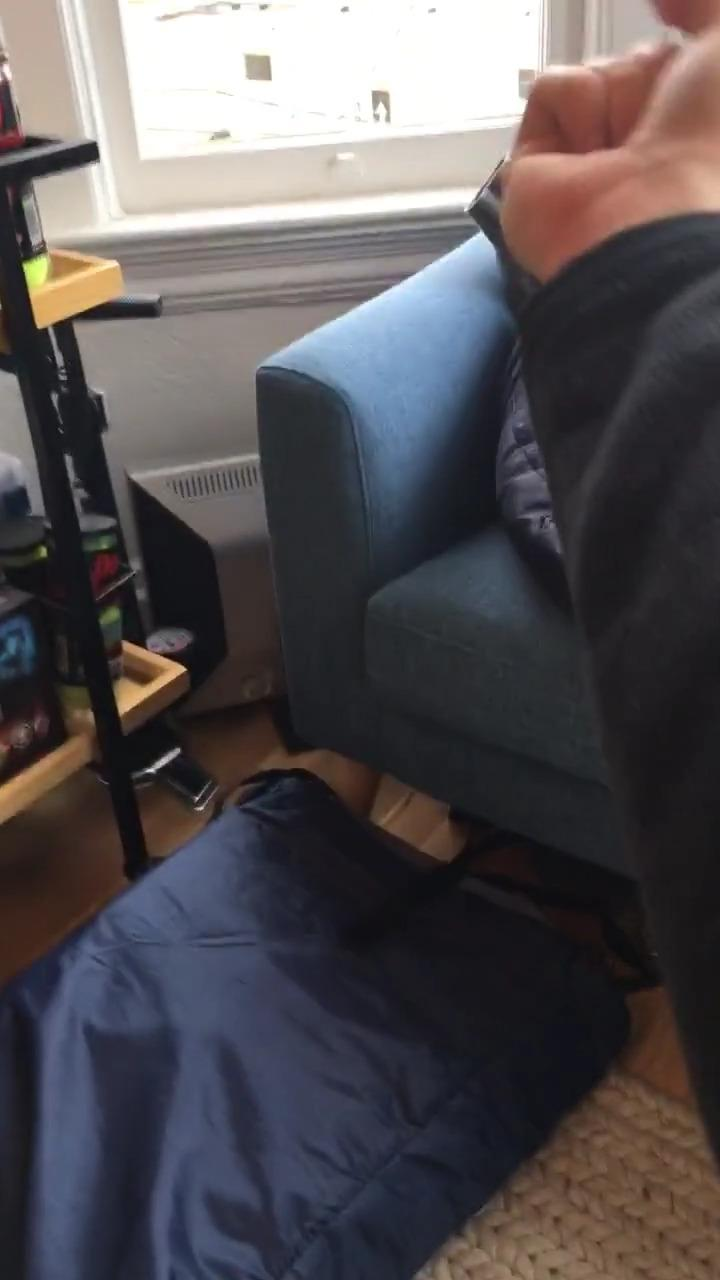Rock: (490, 0, 720, 272)
